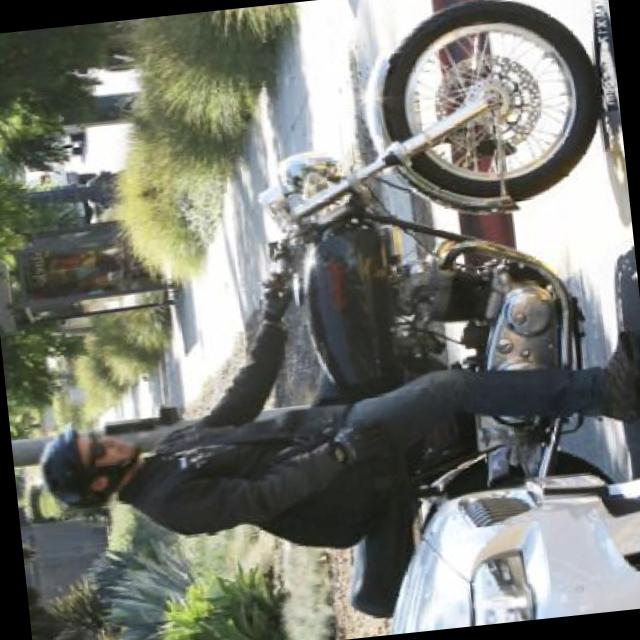With Helmet: (28, 415, 150, 520)
